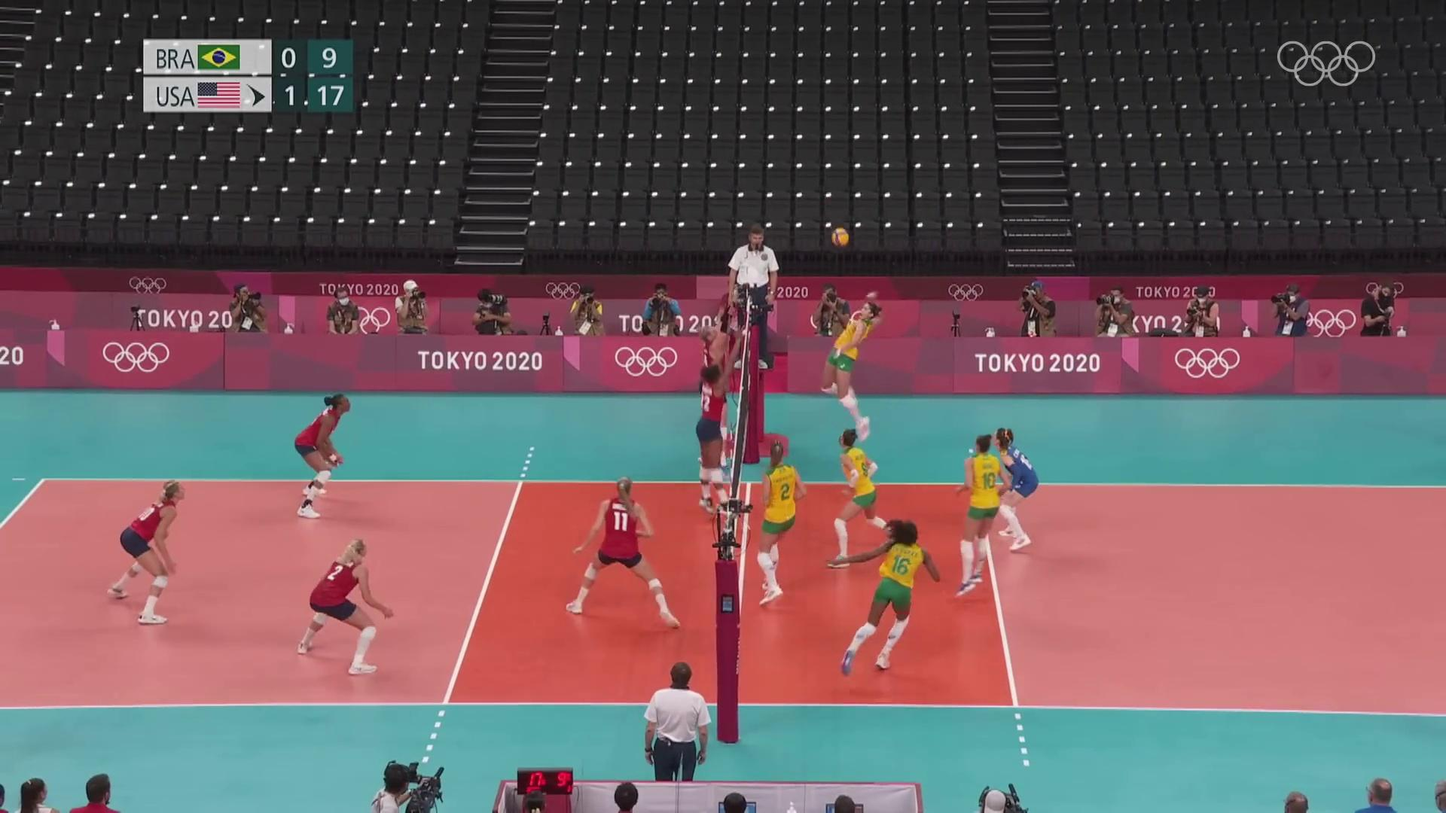player: (832, 526, 949, 678), (564, 481, 681, 623), (295, 541, 398, 675), (745, 443, 810, 607), (116, 485, 189, 625), (951, 437, 1013, 599), (827, 429, 901, 564), (820, 286, 881, 441), (292, 394, 358, 522), (688, 368, 736, 529), (990, 429, 1040, 553), (698, 318, 737, 472)
refree: (638, 665, 709, 813), (723, 223, 781, 371)
